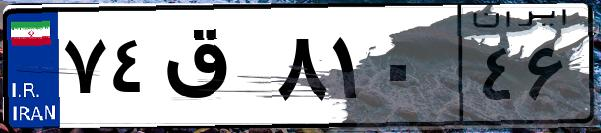0: (385, 28, 445, 110)
1: (330, 28, 385, 110)
4: (475, 38, 525, 113), (110, 28, 158, 98)
6: (525, 38, 570, 115)
7: (57, 26, 110, 100)
8: (270, 28, 330, 110)
ق: (158, 20, 270, 120)
